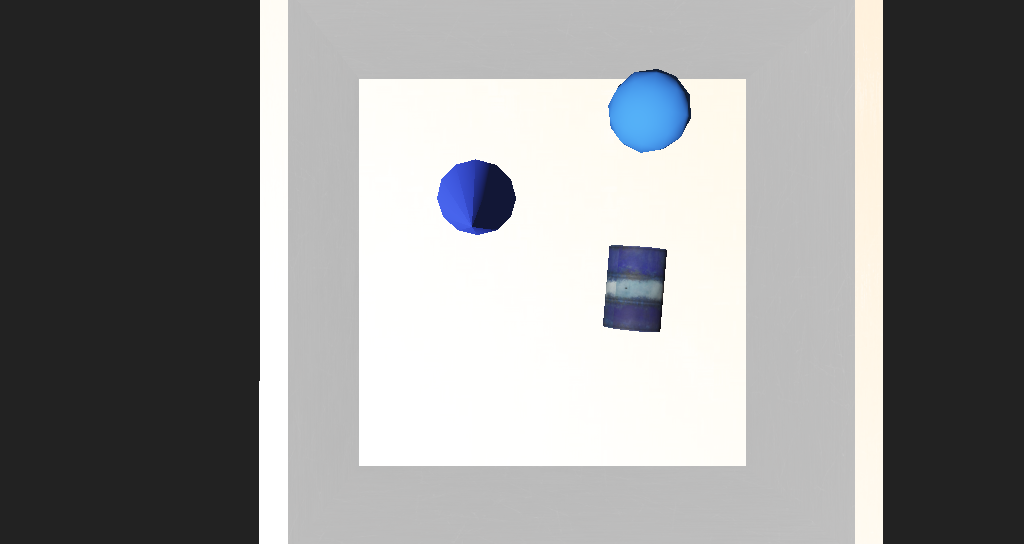cone: (539, 253, 593, 301)
cylinder: (404, 203, 472, 265)
sphere: (549, 160, 610, 203)
